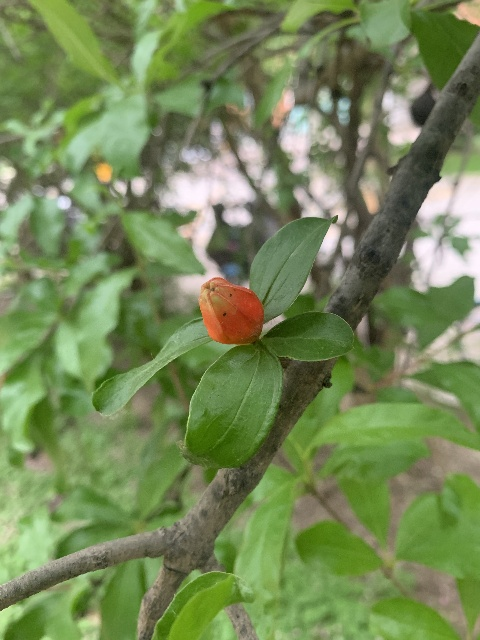bud: (198, 276, 263, 346)
